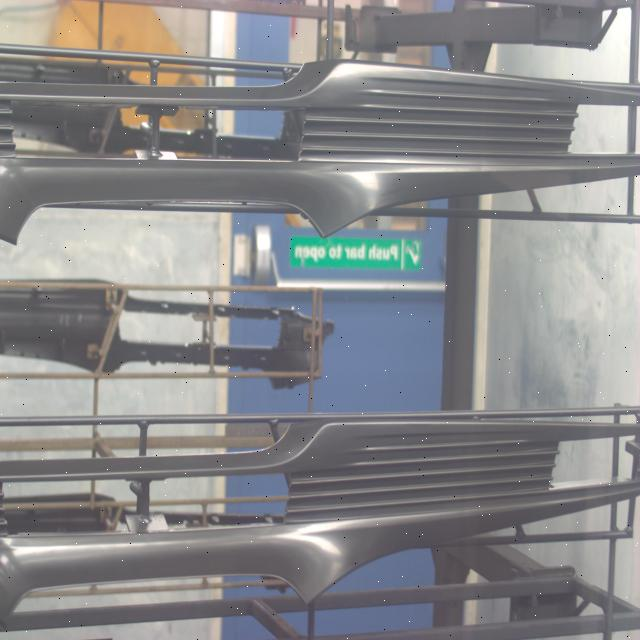Non_primered: (0, 411, 638, 637), (0, 58, 640, 251)
